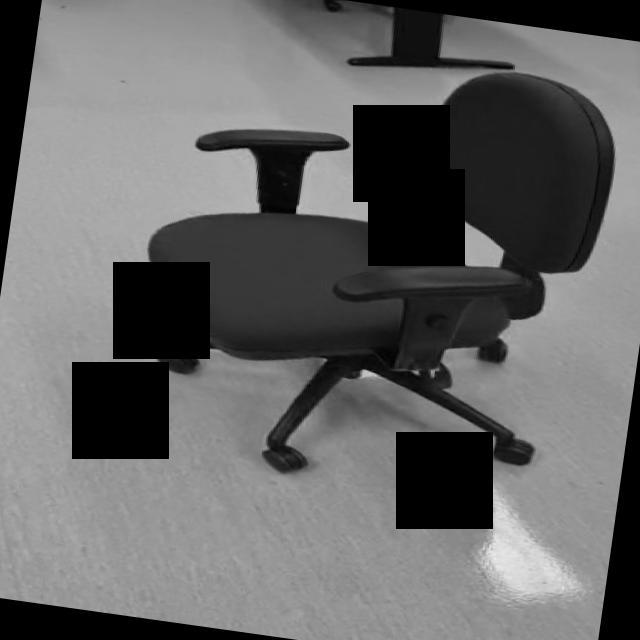chair: (119, 25, 626, 513)
